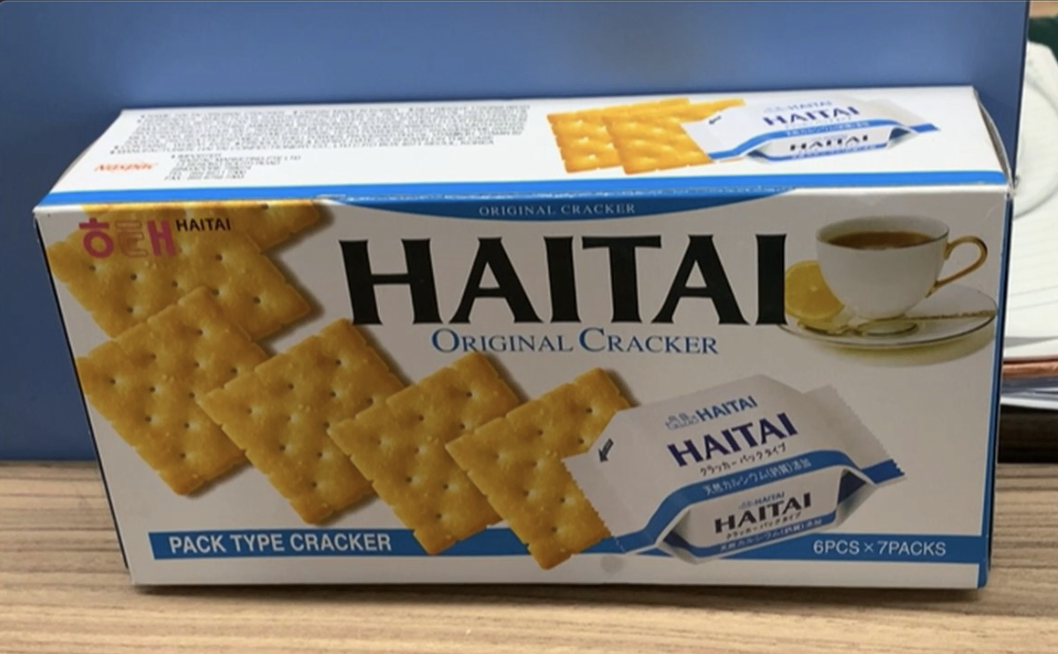crackers_200g-299g: (92, 212, 984, 572)
